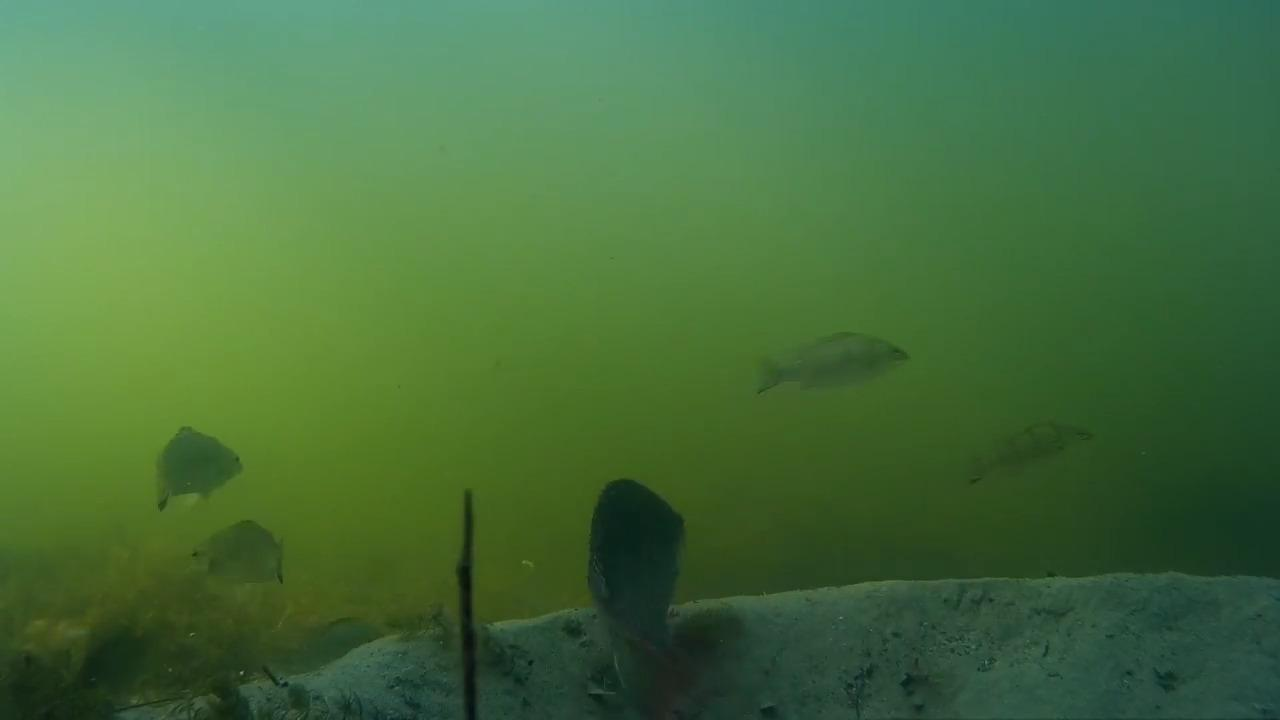Tilapia: (564, 460, 749, 714), (750, 330, 909, 404), (178, 514, 299, 610), (139, 418, 248, 513), (962, 414, 1097, 490)
